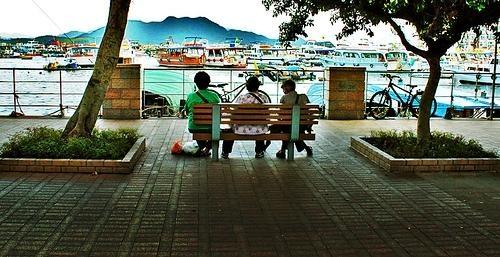bicycle: (368, 73, 438, 120), (208, 71, 272, 103)
